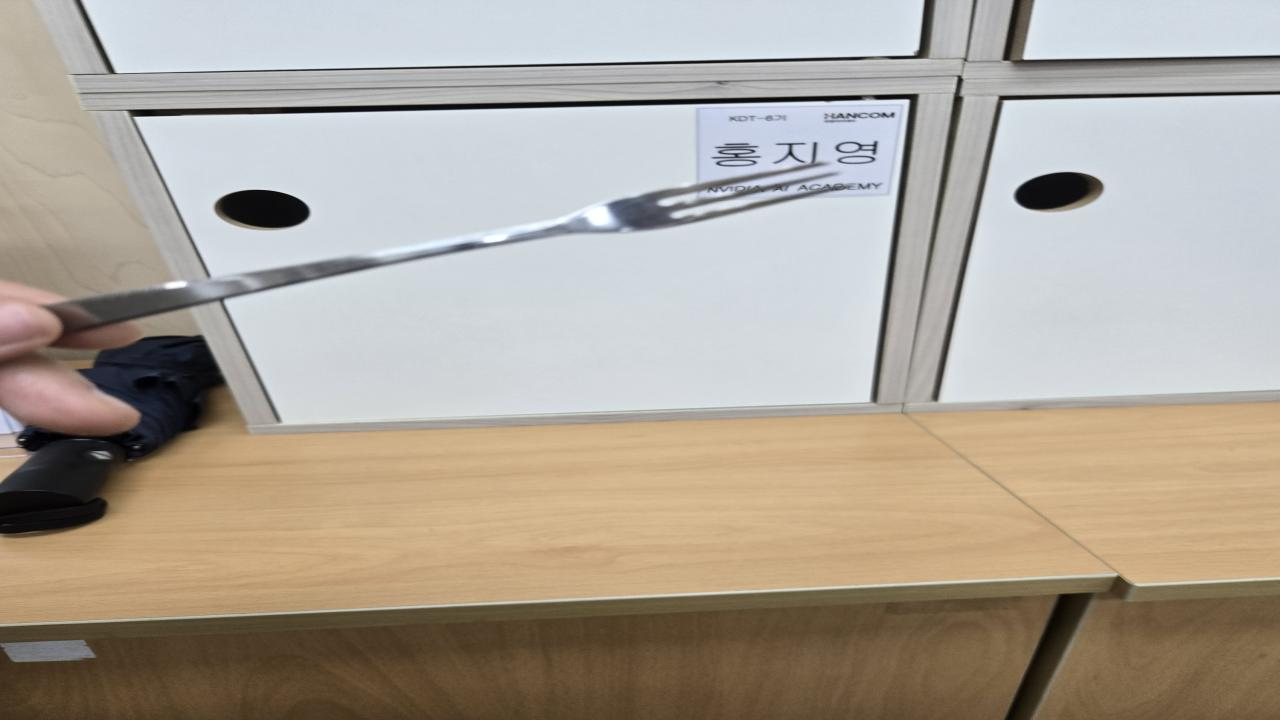fork: (53, 160, 852, 332)
